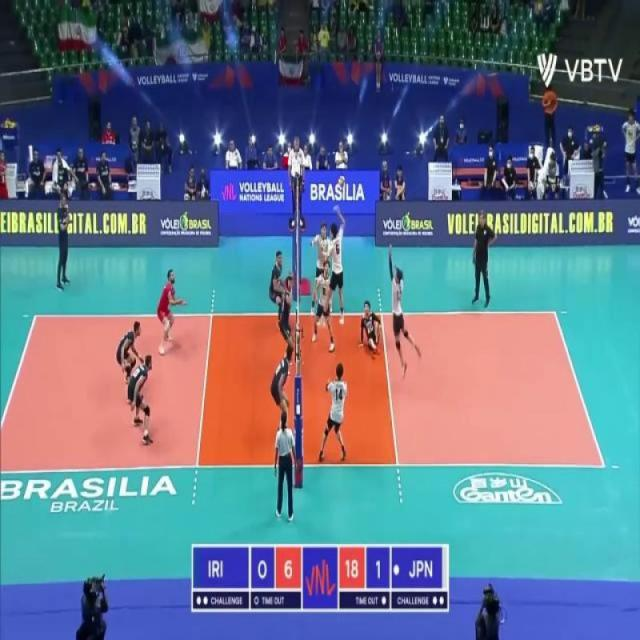volleyball: (338, 176, 346, 188)
